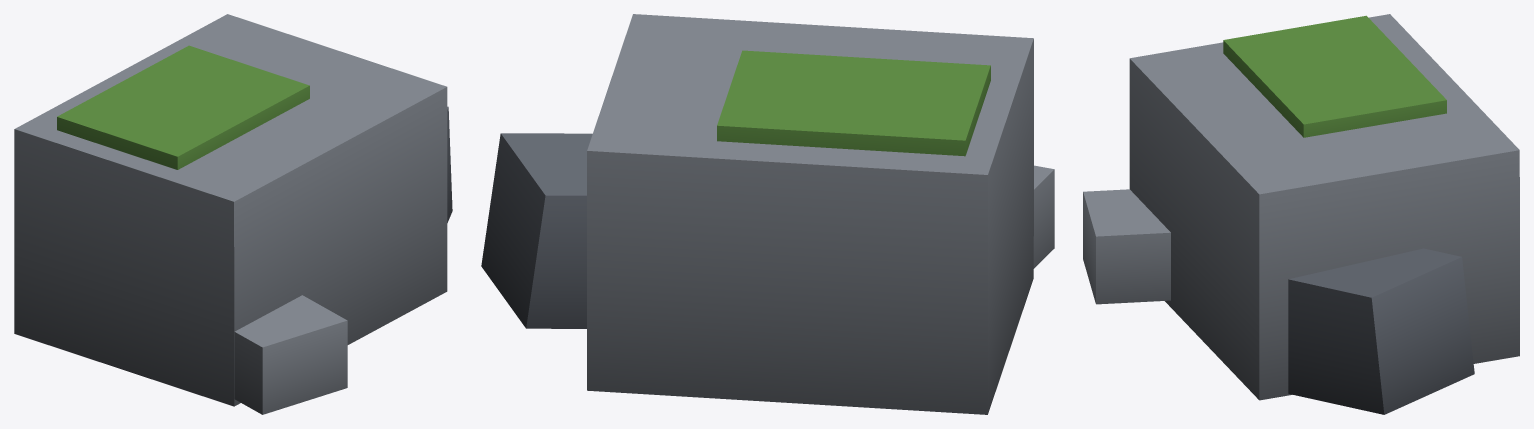
The model's file is C02_rock_medium.glb.
3 views of the same model, side by side, from view 1: azimuth 30°, elevation 25°; view 2: azimuth 150°, elevation 25°; view 3: azimuth 270°, elevation 25° (orthographic). The views are drawn at different scales.
Parts seen in each view (by area): view 1: C02_rock_medium; view 2: C02_rock_medium; view 3: C02_rock_medium.
Part boxes in pixels (bbox=[...]): C02_rock_medium: bbox=[14, 14, 452, 414]; C02_rock_medium: bbox=[481, 14, 1054, 414]; C02_rock_medium: bbox=[1083, 14, 1519, 414].
Bounding box in the file's own units: 1.89 × 0.9053 × 1.63.
